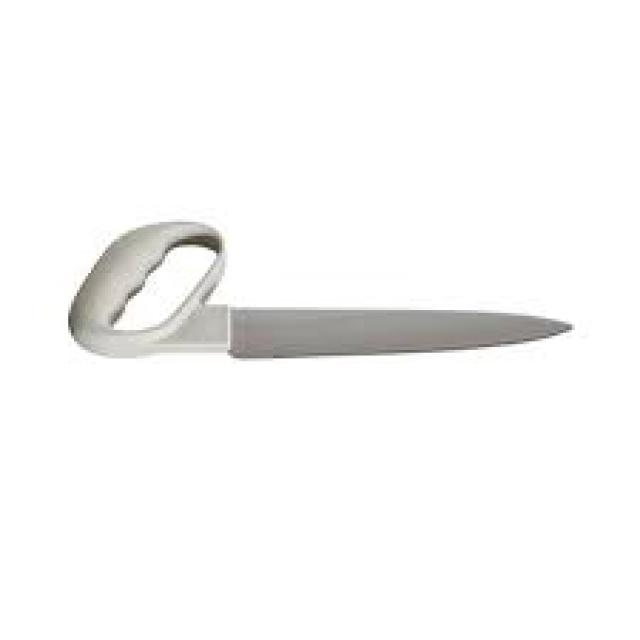Knife: (65, 219, 572, 358)
